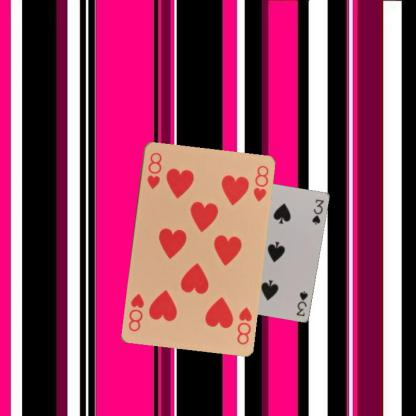3s: (294, 289, 309, 318)
8h: (234, 304, 253, 345), (144, 150, 163, 190)
